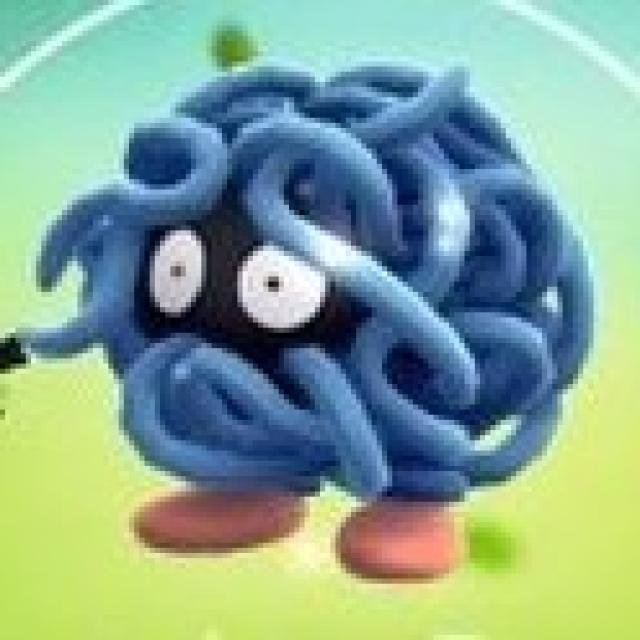Tangela: (14, 62, 603, 575)
